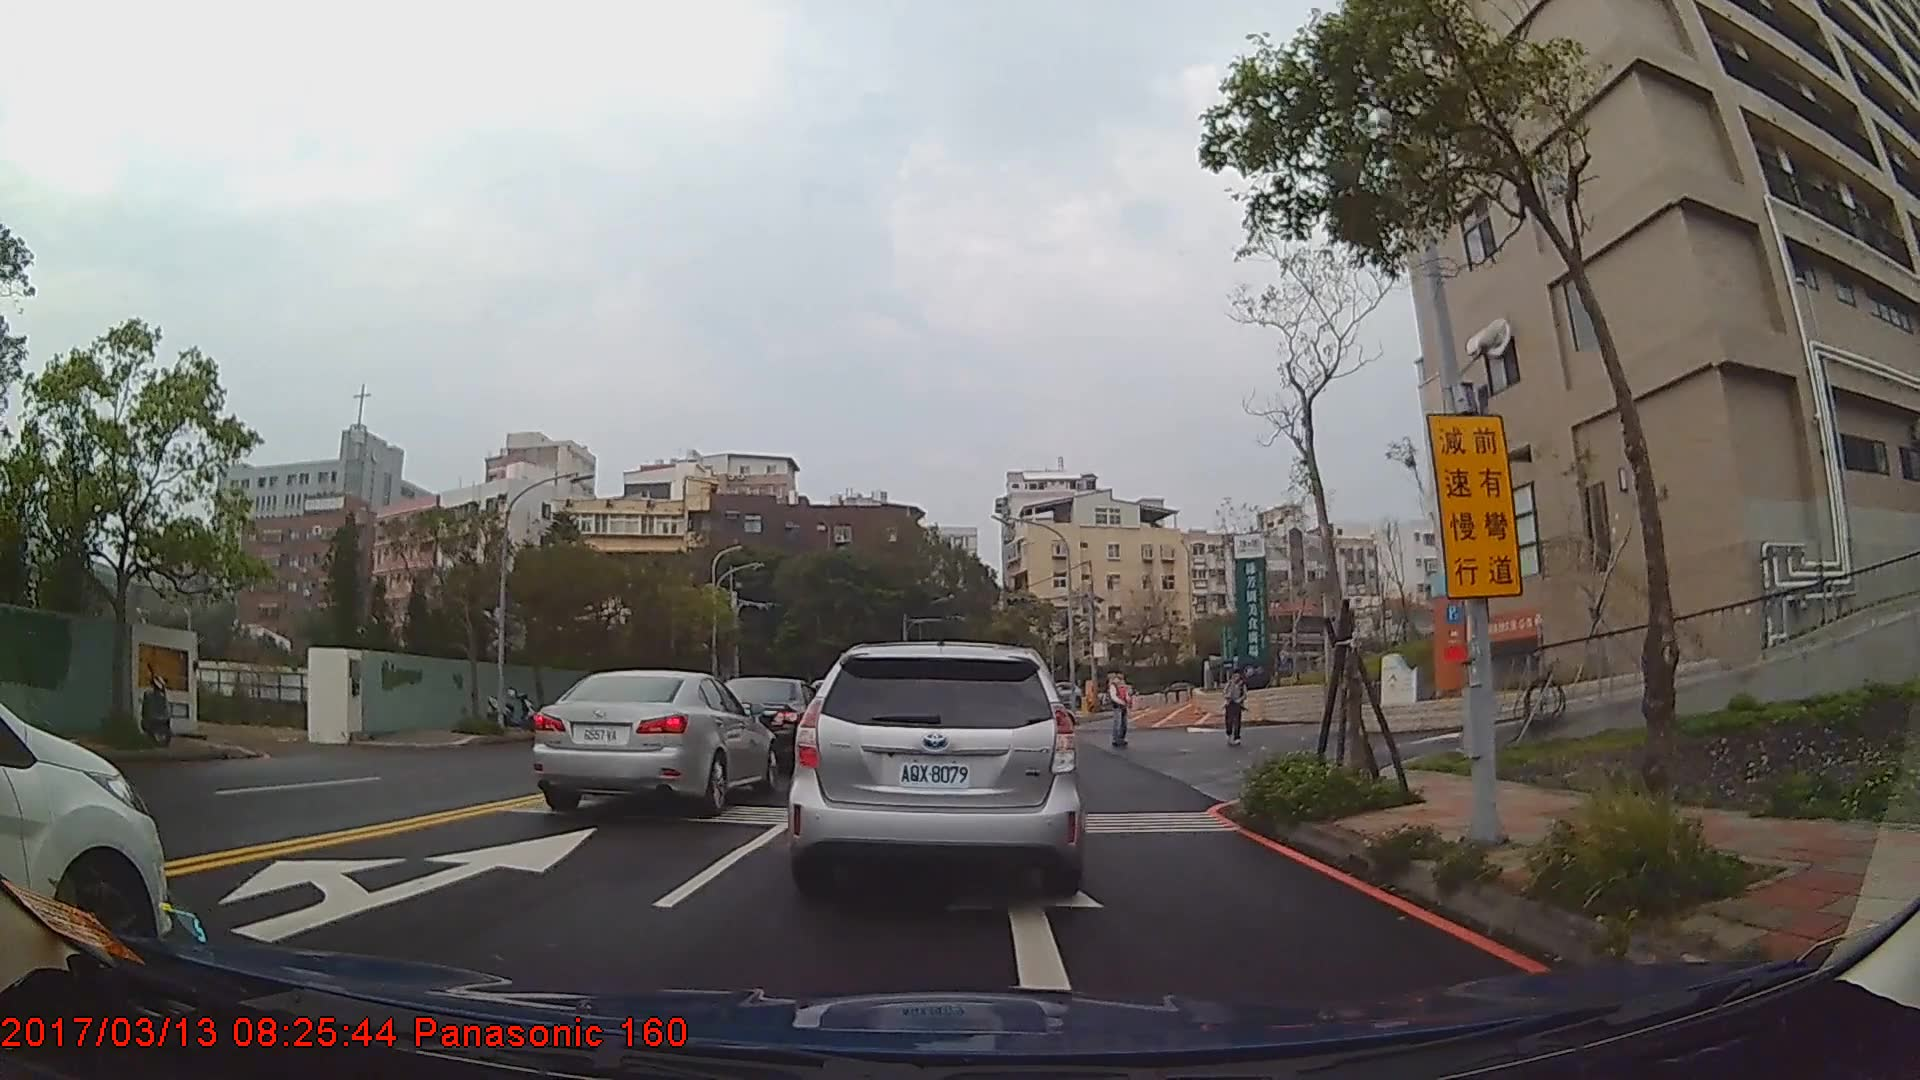pedestrian: (1105, 669, 1134, 746), (1224, 669, 1249, 746)
vehicle: (788, 637, 1086, 895), (0, 699, 171, 958), (530, 668, 779, 812), (708, 675, 826, 765)
